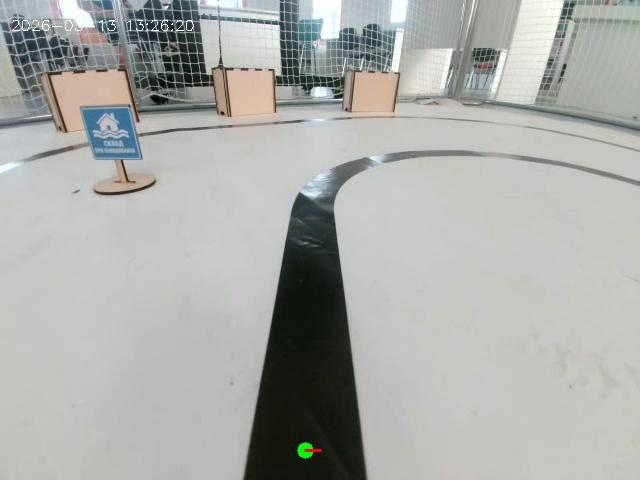flood: (78, 89, 183, 217)
